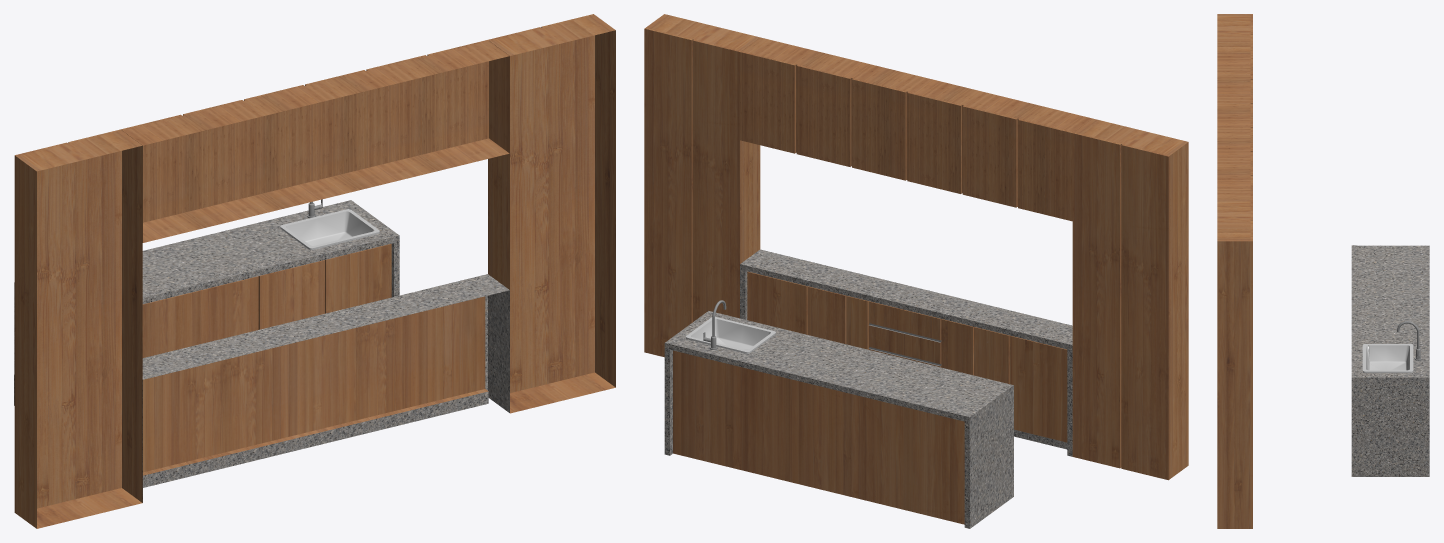
File: MSH_Cocina_Terraza_13.FBX
The picture shows the model from 3 angles, left to right: view 1: azimuth 30°, elevation 25°; view 2: azimuth 150°, elevation 25°; view 3: azimuth 270°, elevation 25°; orthographic projection. The views are drawn at different scales.
Visible parts, largest first — view 1: MSH_Cocina_Terraza_13; view 2: MSH_Cocina_Terraza_13; view 3: MSH_Cocina_Terraza_13.
Part boxes in pixels (x1=…): MSH_Cocina_Terraza_13: x1=14, y1=14, x2=615, y2=528; MSH_Cocina_Terraza_13: x1=644, y1=14, x2=1188, y2=528; MSH_Cocina_Terraza_13: x1=1217, y1=14, x2=1429, y2=528.
Bounding box in the file's own units: 492 × 290 × 194.
